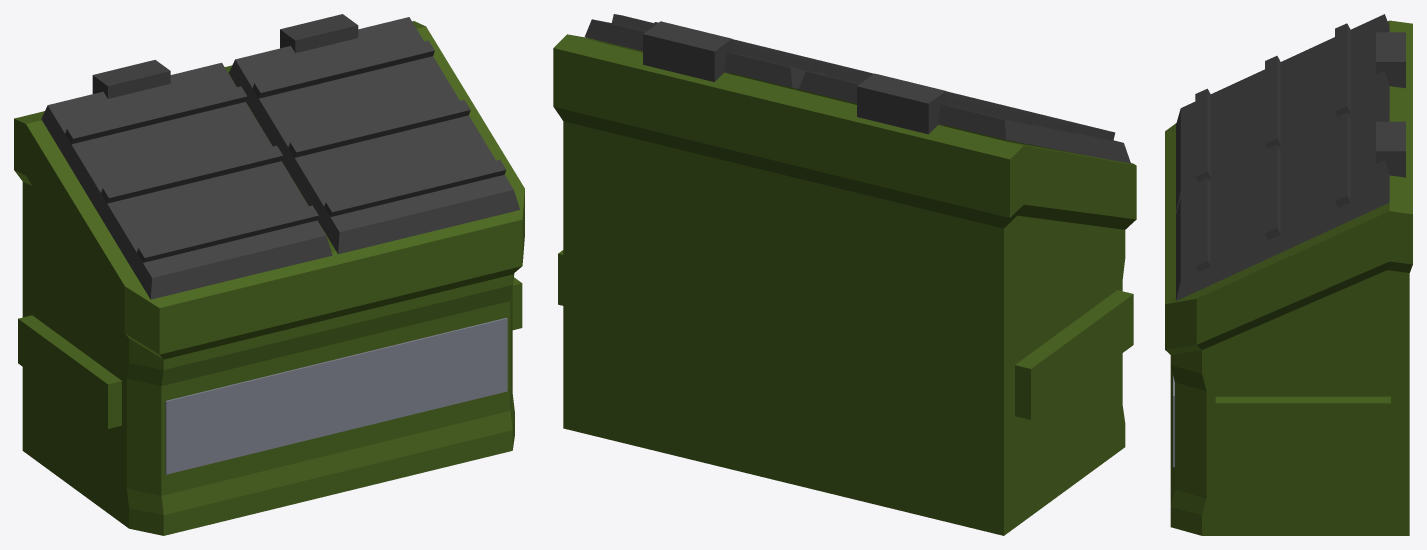
File: Dumpster.glb
The picture shows the model from 3 angles, left to right: view 1: azimuth 30°, elevation 25°; view 2: azimuth 150°, elevation 25°; view 3: azimuth 270°, elevation 25°; orthographic projection. The views are drawn at different scales.
Visible parts, largest first — view 1: Dumpster; view 2: Dumpster; view 3: Dumpster.
Boxes of the visible parts, bbox=[...] form: Dumpster: bbox=[14, 14, 524, 535]; Dumpster: bbox=[553, 14, 1136, 535]; Dumpster: bbox=[1165, 14, 1412, 535].
Bounding box in the file's own units: 0.8594 × 0.7146 × 0.456.
